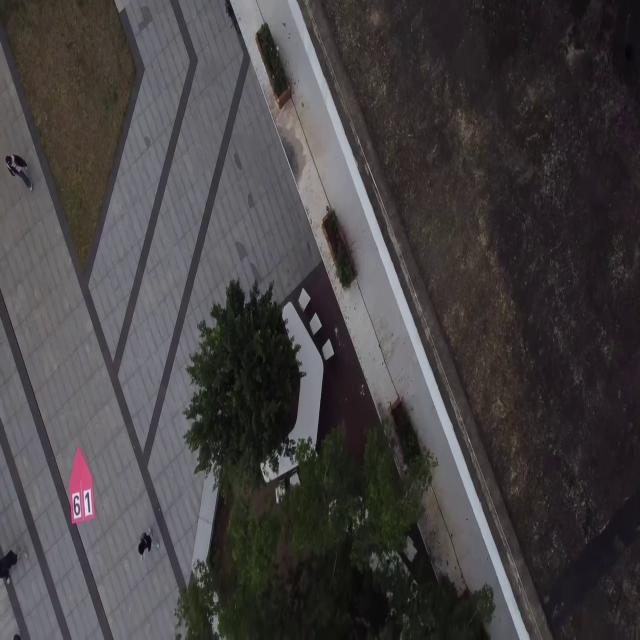-sign-: (68, 446, 96, 526)
